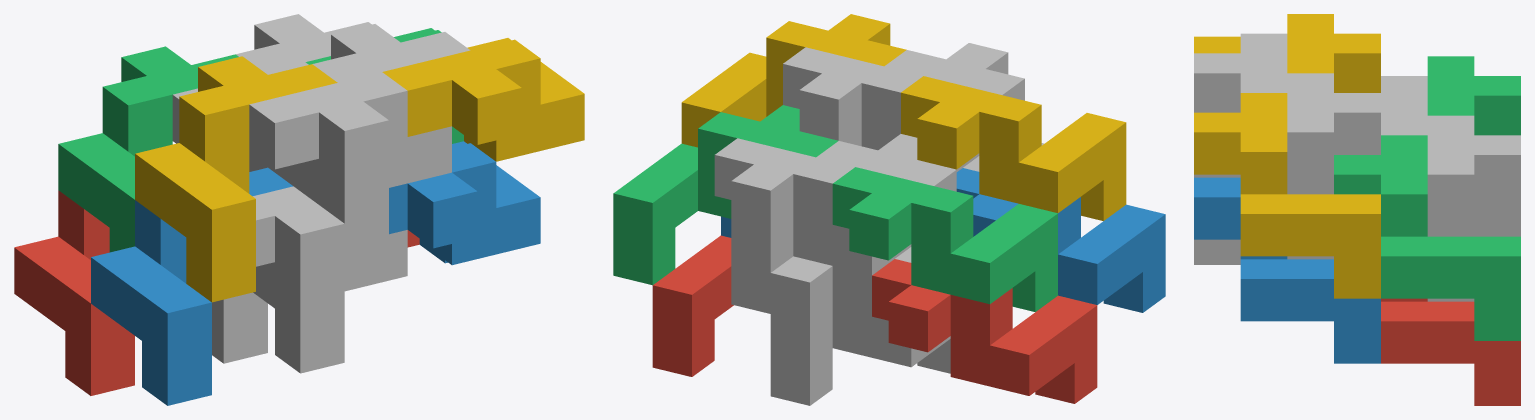
Rendered from tiling.obj.
3 renders of one model, left to right at view 1: azimuth 30°, elevation 25°; view 2: azimuth 150°, elevation 25°; view 3: azimuth 270°, elevation 25°, orthographic. The views are drawn at different scales.
Parts seen in each view (by area): view 1: copy_1_domain_4, copy_2_domain_8, copy_1_domain_2, copy_2_domain_4, copy_1_domain_3, copy_1_domain_1, copy_2_domain_6, copy_1_domain_8, copy_2_domain_2, copy_1_domain_6, copy_1_domain_7, copy_1_domain_5 (+2 smaller); view 2: copy_1_domain_4, copy_1_domain_3, copy_1_domain_1, copy_2_domain_7, copy_1_domain_7, copy_1_domain_2, copy_2_domain_8, copy_1_domain_8, copy_1_domain_5, copy_2_domain_5, copy_2_domain_3, copy_2_domain_1 (+1 smaller); view 3: copy_2_domain_8, copy_2_domain_7, copy_2_domain_6, copy_2_domain_5, copy_1_domain_8, copy_1_domain_7, copy_2_domain_4, copy_1_domain_4, copy_1_domain_3, copy_2_domain_3, copy_1_domain_6.
Boxes of the visible parts, left/top/right/bottom form: copy_1_domain_4: left=135, top=56, right=337, bottom=302; copy_2_domain_8: left=382, top=38, right=584, bottom=161; copy_1_domain_2: left=91, top=167, right=292, bottom=405; copy_2_domain_4: left=249, top=72, right=451, bottom=187; copy_1_domain_3: left=58, top=46, right=238, bottom=252; copy_1_domain_1: left=14, top=190, right=134, bottom=395; copy_2_domain_6: left=389, top=141, right=540, bottom=265; copy_1_domain_8: left=268, top=24, right=470, bottom=269; copy_2_domain_2: left=253, top=186, right=407, bottom=291; copy_1_domain_6: left=253, top=262, right=344, bottom=373; copy_1_domain_7: left=236, top=14, right=371, bottom=171; copy_1_domain_5: left=212, top=292, right=267, bottom=363; copy_1_domain_4: left=901, top=76, right=1126, bottom=220; copy_1_domain_3: left=832, top=167, right=1057, bottom=311; copy_1_domain_1: left=872, top=259, right=1097, bottom=403; copy_2_domain_7: left=613, top=105, right=838, bottom=285; copy_1_domain_7: left=714, top=138, right=911, bottom=275; copy_1_domain_2: left=956, top=168, right=1165, bottom=312; copy_2_domain_8: left=681, top=14, right=906, bottom=147; copy_1_domain_8: left=783, top=47, right=979, bottom=171; copy_1_domain_5: left=770, top=256, right=950, bottom=373; copy_2_domain_5: left=652, top=235, right=733, bottom=376; copy_2_domain_3: left=731, top=134, right=956, bottom=313; copy_2_domain_1: left=770, top=247, right=911, bottom=405; copy_2_domain_8: left=1194, top=93, right=1380, bottom=298; copy_2_domain_7: left=1334, top=135, right=1520, bottom=340; copy_2_domain_6: left=1194, top=177, right=1380, bottom=363; copy_2_domain_5: left=1381, top=298, right=1520, bottom=405; copy_1_domain_8: left=1194, top=73, right=1380, bottom=177; copy_1_domain_7: left=1427, top=115, right=1520, bottom=216; copy_2_domain_4: left=1194, top=33, right=1333, bottom=194; copy_1_domain_4: left=1194, top=14, right=1380, bottom=92; copy_1_domain_3: left=1427, top=56, right=1520, bottom=135; copy_2_domain_3: left=1381, top=76, right=1520, bottom=236; copy_1_domain_6: left=1194, top=239, right=1240, bottom=264.
Size of the model in its own units: 10 by 6 by 7.
